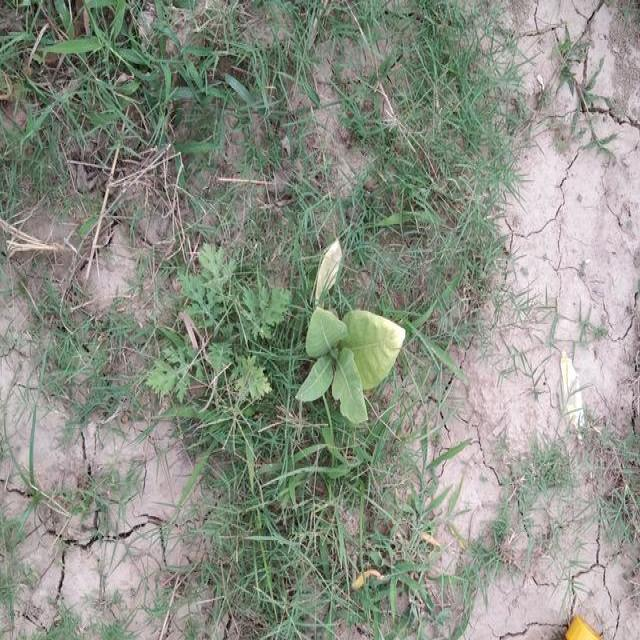crop: (305, 293, 407, 425)
